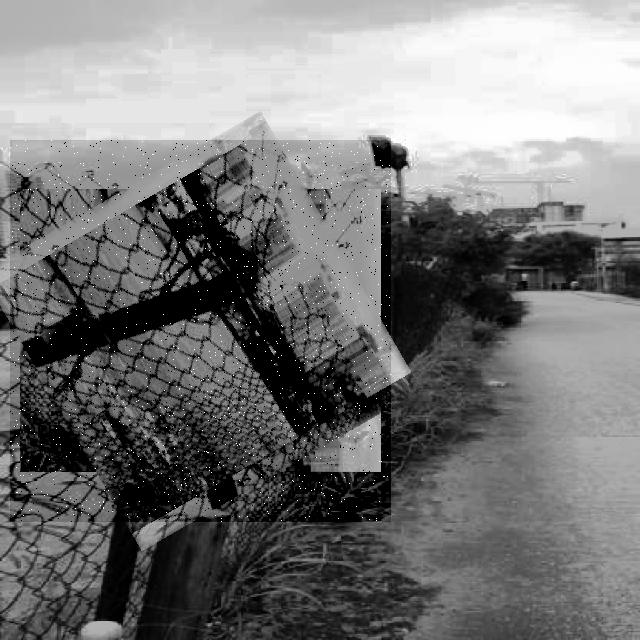anomaly-fence: (10, 140, 391, 522)
